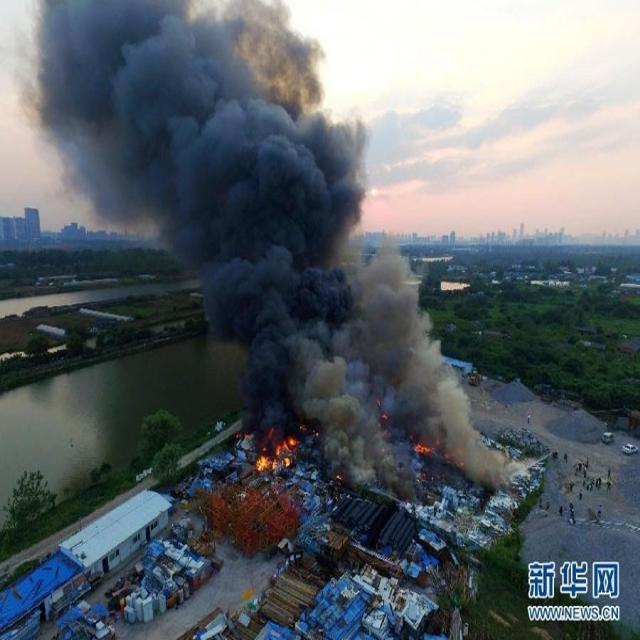fire: (251, 410, 316, 476), (408, 429, 467, 470)
smoke: (39, 2, 438, 399)
